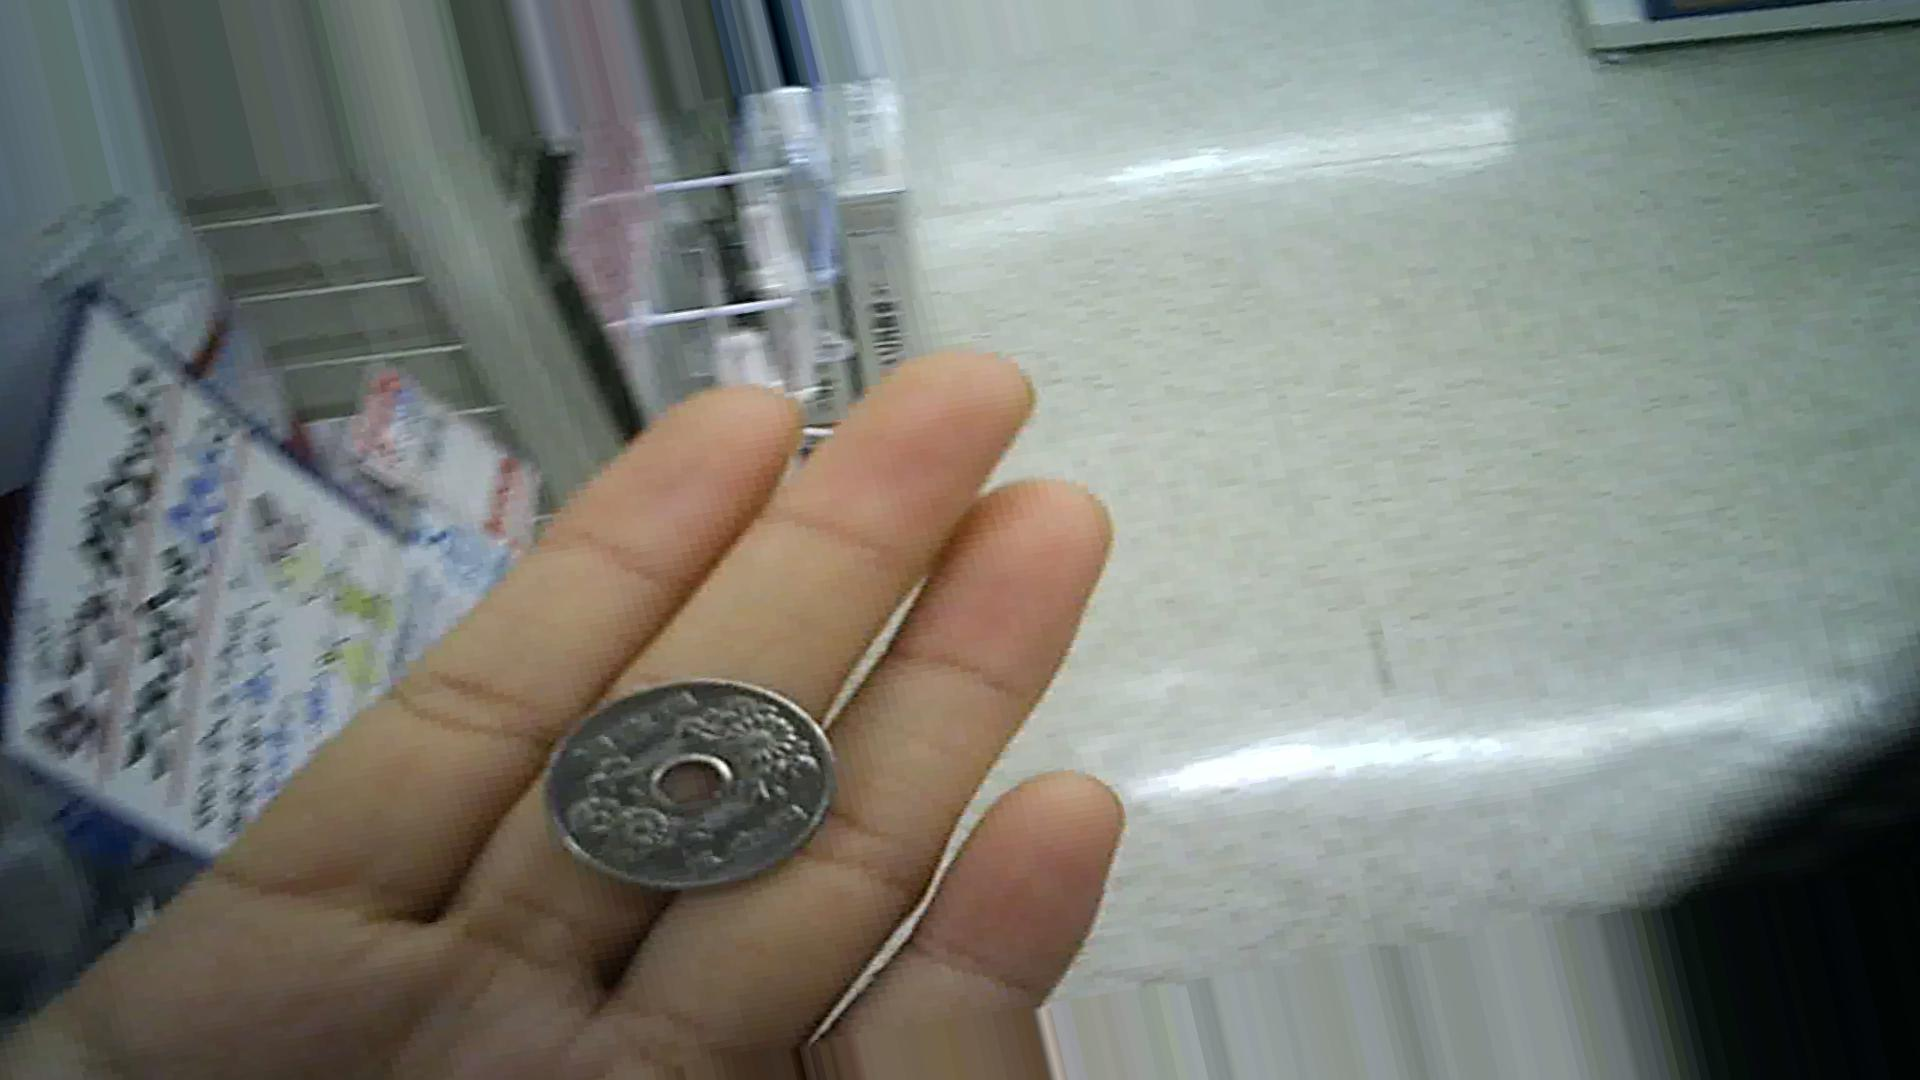50 Yen: (534, 676, 833, 872)
